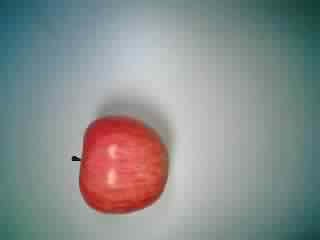apple: (71, 111, 175, 215)
